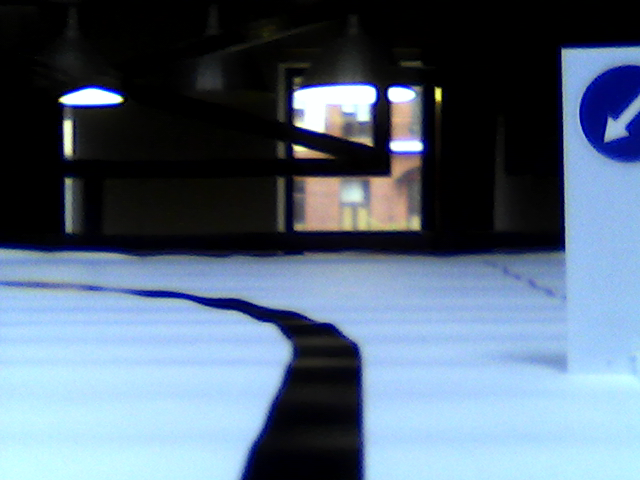prep: (574, 60, 640, 162)
